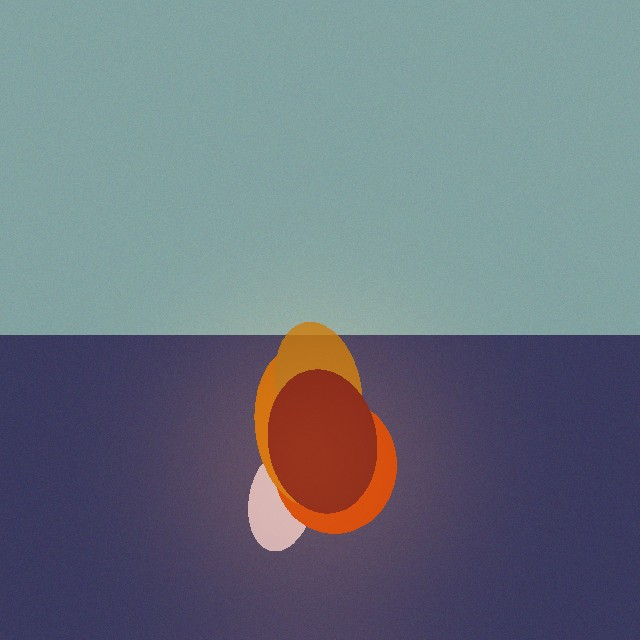fire: (240, 372, 384, 554)
